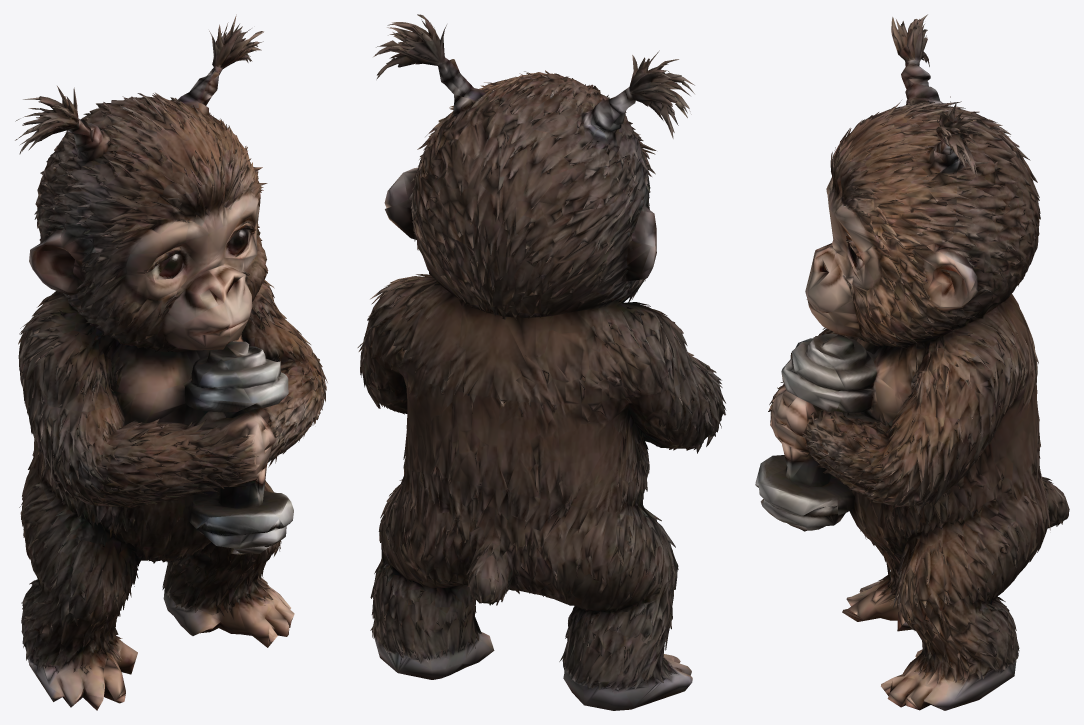
File: goro_1.glb
The picture shows the model from 3 angles, left to right: view 1: azimuth 30°, elevation 25°; view 2: azimuth 150°, elevation 25°; view 3: azimuth 270°, elevation 25°; orthographic projection. The views are drawn at different scales.
Bounding box in the file's own units: 0.5101 × 0.9763 × 0.4697.
1 material, 1 textured.
